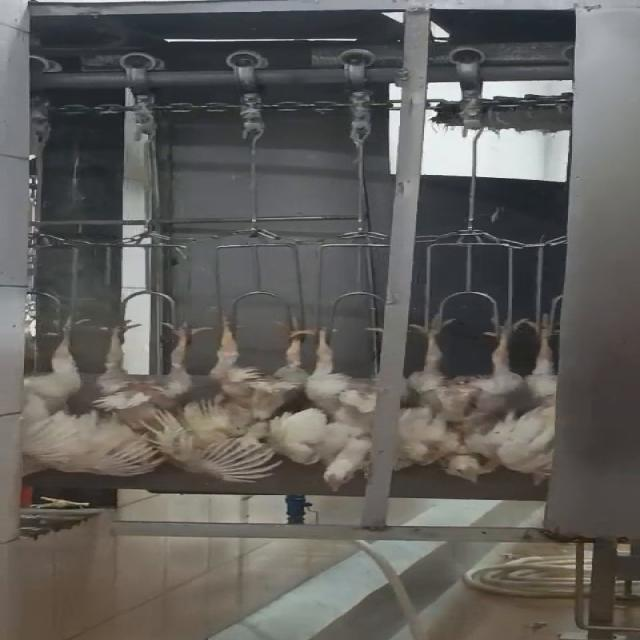chicken: (382, 307, 523, 488), (181, 319, 304, 485), (286, 318, 398, 492), (76, 316, 198, 464), (3, 313, 102, 484), (503, 306, 560, 488)
